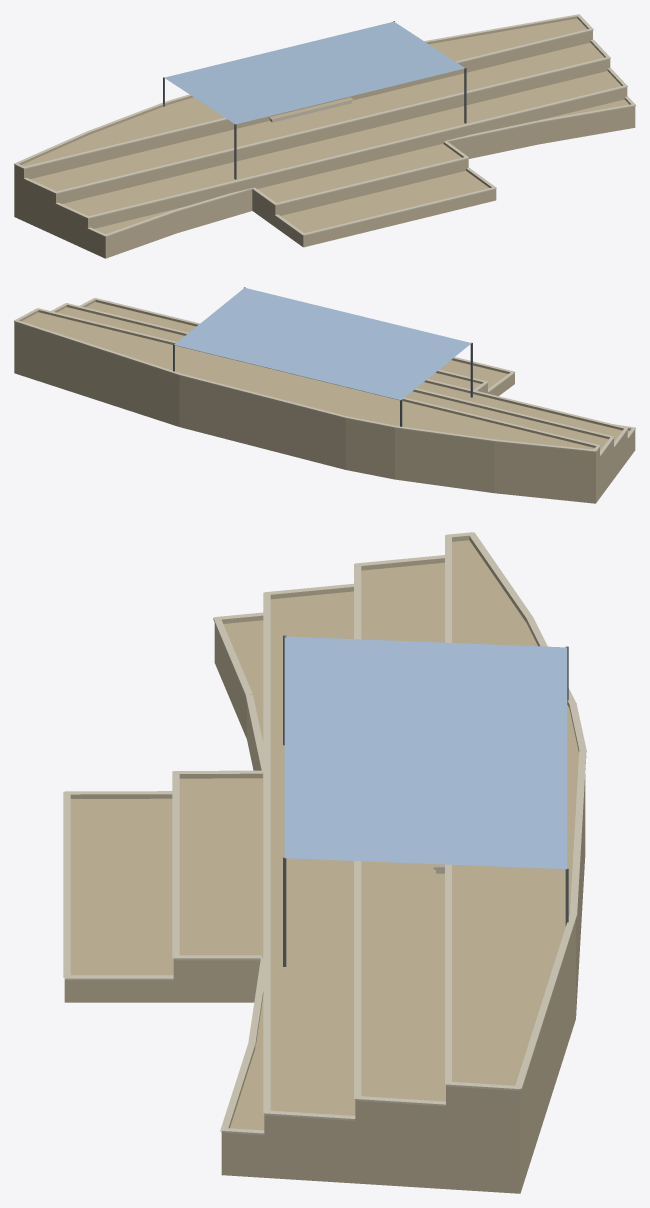
3 renders of one model, top to bottom at view 1: azimuth 30°, elevation 25°; view 2: azimuth 150°, elevation 25°; view 3: azimuth 270°, elevation 25°, orthographic. The views are drawn at different scales.
Visible parts, largest first — view 1: stadiumStand__roof, stadiumStand__wall, stadiumStand__canopyRoof, stadiumStand__trim, stadiumStand__parapet, stadiumStand__frame; view 2: stadiumStand__wall, stadiumStand__roof, stadiumStand__canopyRoof, stadiumStand__trim, stadiumStand__parapet; view 3: stadiumStand__roof, stadiumStand__canopyRoof, stadiumStand__wall, stadiumStand__trim, stadiumStand__parapet, stadiumStand__frame.
Boxes of the visible parts, box(x1,y1,x2,y2) form: stadiumStand__roof: box(22, 18, 628, 234); stadiumStand__wall: box(14, 32, 635, 258); stadiumStand__canopyRoof: box(164, 21, 464, 124); stadiumStand__trim: box(14, 14, 635, 236); stadiumStand__parapet: box(14, 16, 635, 238); stadiumStand__frame: box(163, 21, 466, 179); stadiumStand__wall: box(14, 323, 635, 503); stadiumStand__roof: box(21, 302, 629, 450); stadiumStand__canopyRoof: box(174, 287, 471, 400); stadiumStand__trim: box(14, 298, 635, 455); stadiumStand__parapet: box(14, 299, 634, 457); stadiumStand__roof: box(70, 540, 578, 1130); stadiumStand__canopyRoof: box(284, 636, 567, 869); stadiumStand__wall: box(64, 623, 585, 1193); stadiumStand__trim: box(63, 532, 586, 1135); stadiumStand__parapet: box(64, 535, 579, 1137); stadiumStand__frame: box(283, 635, 568, 966).
Bounding box in the file's own units: 65.3 × 9.21 × 25.92.
